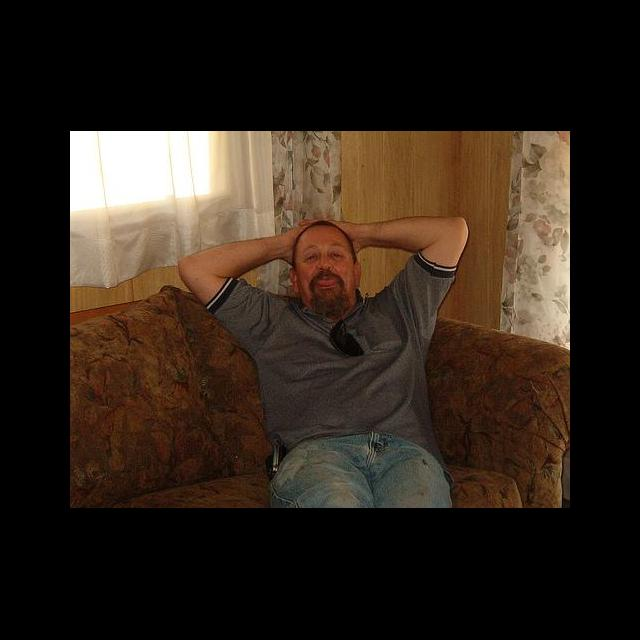NO-Hardhat: (294, 222, 348, 247)
NO-Mask: (293, 268, 362, 312)
NO-Safety Vest: (257, 296, 434, 439)
Person: (175, 216, 467, 508)
